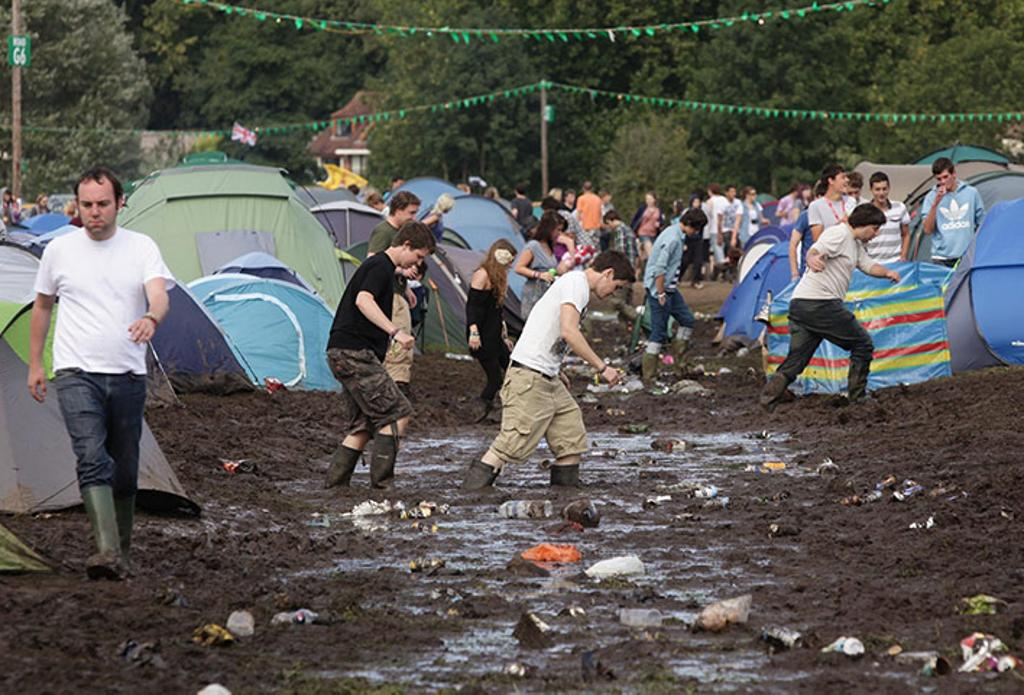face: (80, 184, 117, 235), (599, 274, 625, 299), (404, 247, 428, 269), (859, 221, 880, 243), (831, 172, 849, 193), (399, 204, 416, 226), (936, 171, 955, 190), (872, 183, 889, 203), (687, 224, 702, 237), (849, 188, 861, 204), (551, 225, 564, 239), (567, 193, 576, 204), (748, 192, 757, 203), (728, 189, 736, 200), (647, 197, 655, 207), (804, 187, 811, 197)
